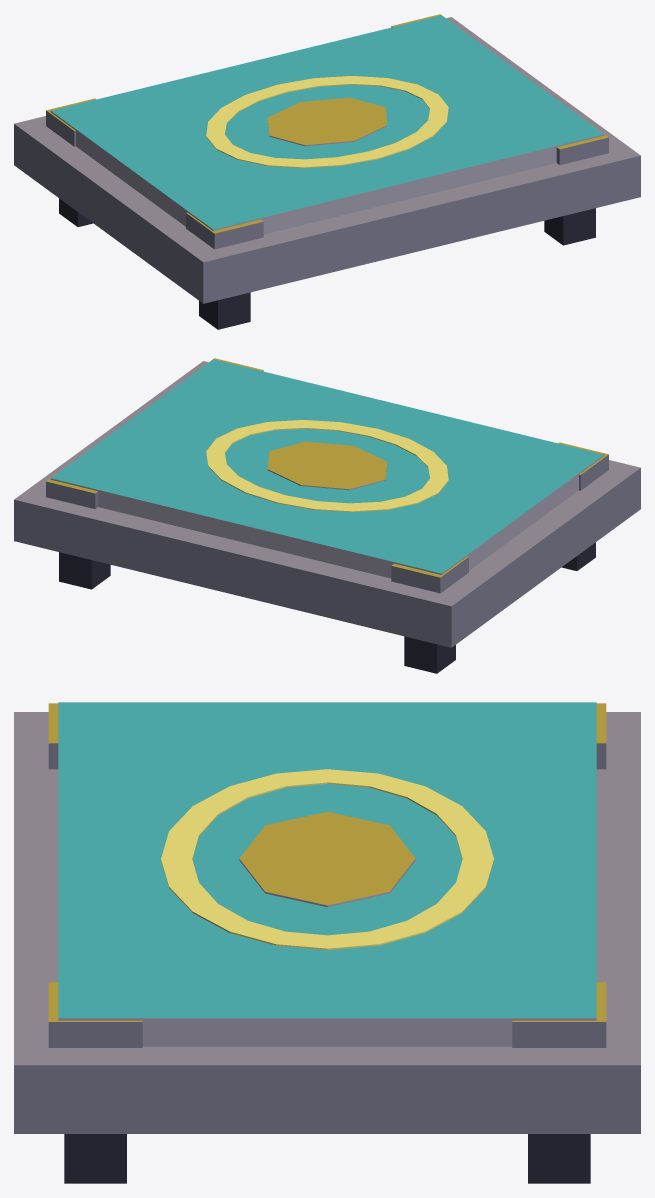
File: star_garden_lift_platform.obj
3 renders of one model, top to bottom at view 1: azimuth 30°, elevation 25°; view 2: azimuth 150°, elevation 25°; view 3: azimuth 270°, elevation 25°, orthographic. The views are drawn at different scales.
Parts seen in each view (by area): view 1: star_garden_lift_platform; view 2: star_garden_lift_platform; view 3: star_garden_lift_platform.
Part boxes in pixels (box(x1,y1,x2,y2)): star_garden_lift_platform: box(14, 14, 640, 329); star_garden_lift_platform: box(14, 358, 640, 673); star_garden_lift_platform: box(14, 702, 640, 1183).
Bounding box in the file's own units: 12.8 × 2.91 × 9.6.
